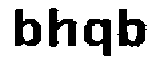b: (115, 7, 149, 52), (10, 8, 45, 48)
h: (47, 6, 81, 50)
q: (82, 15, 112, 60)
